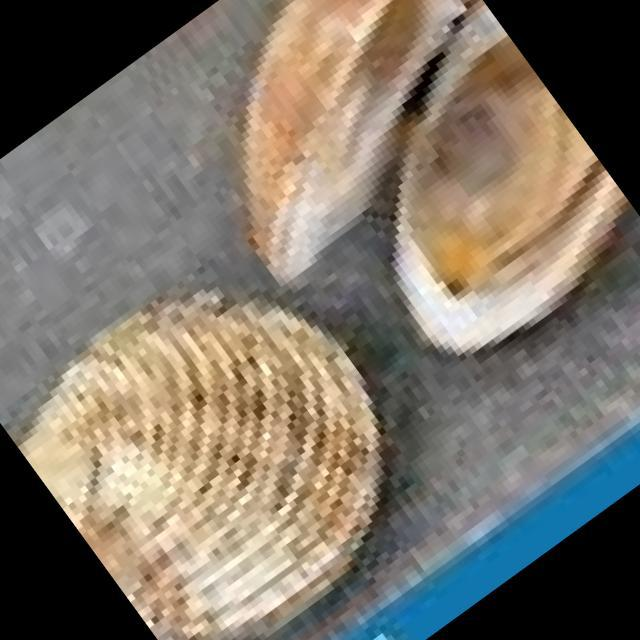Oyster-Closed: (0, 230, 449, 640)
Oyster-Open: (244, 0, 624, 353)
